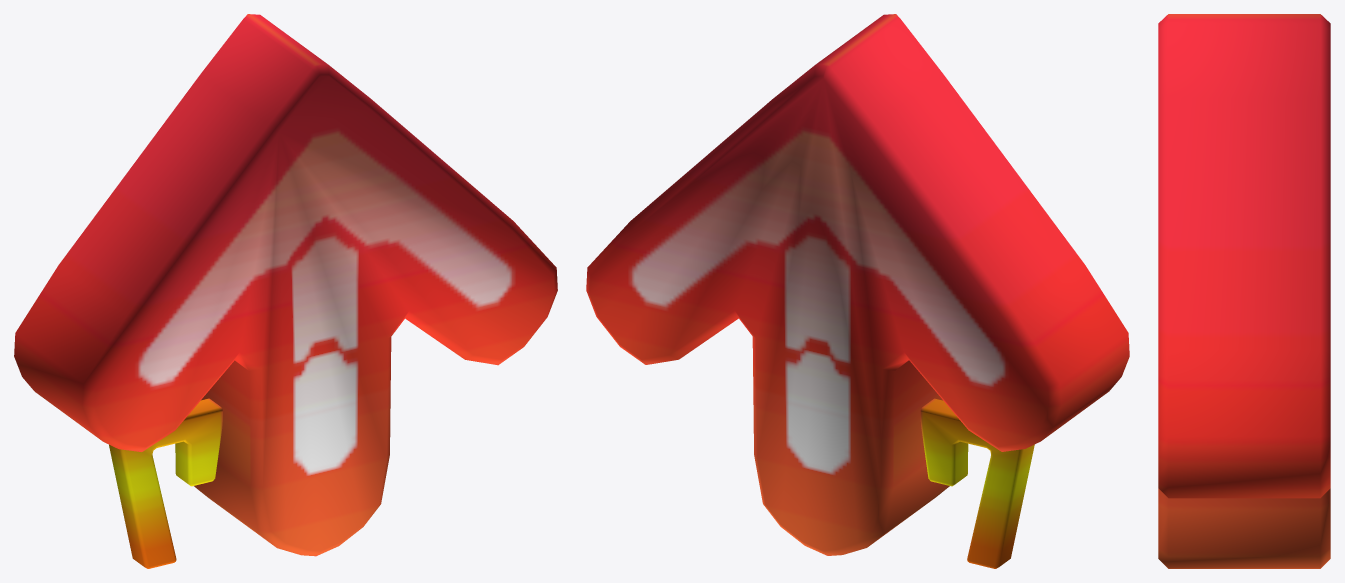
Rendered from output.ico.obj.
3 views of the same model, side by side, from view 1: azimuth 30°, elevation 25°; view 2: azimuth 150°, elevation 25°; view 3: azimuth 270°, elevation 25° (orthographic). The views are drawn at different scales.
Size of the model in its own units: 3.76 by 3.72 by 1.06.
1 material, 1 textured.
